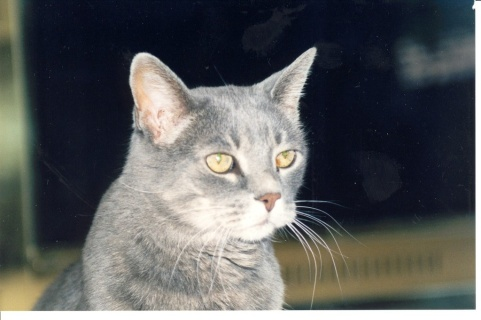Cat: (25, 43, 374, 312)
